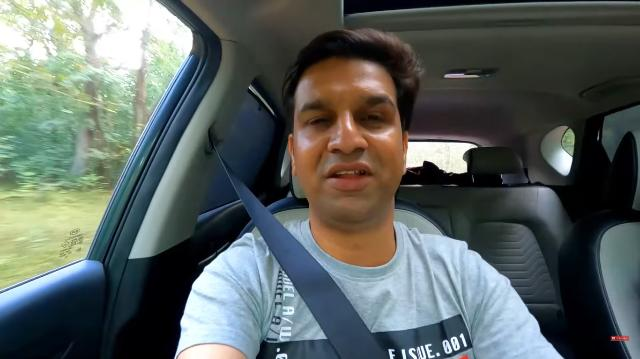seatbelt: (205, 122, 391, 358), (178, 121, 328, 230)
